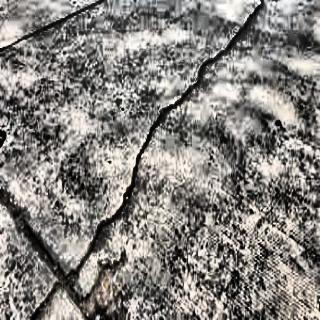crack: (79, 2, 269, 270), (0, 0, 113, 52), (26, 238, 79, 300), (28, 281, 61, 320)
pothole: (80, 252, 139, 320), (0, 179, 31, 237), (0, 125, 10, 150)
